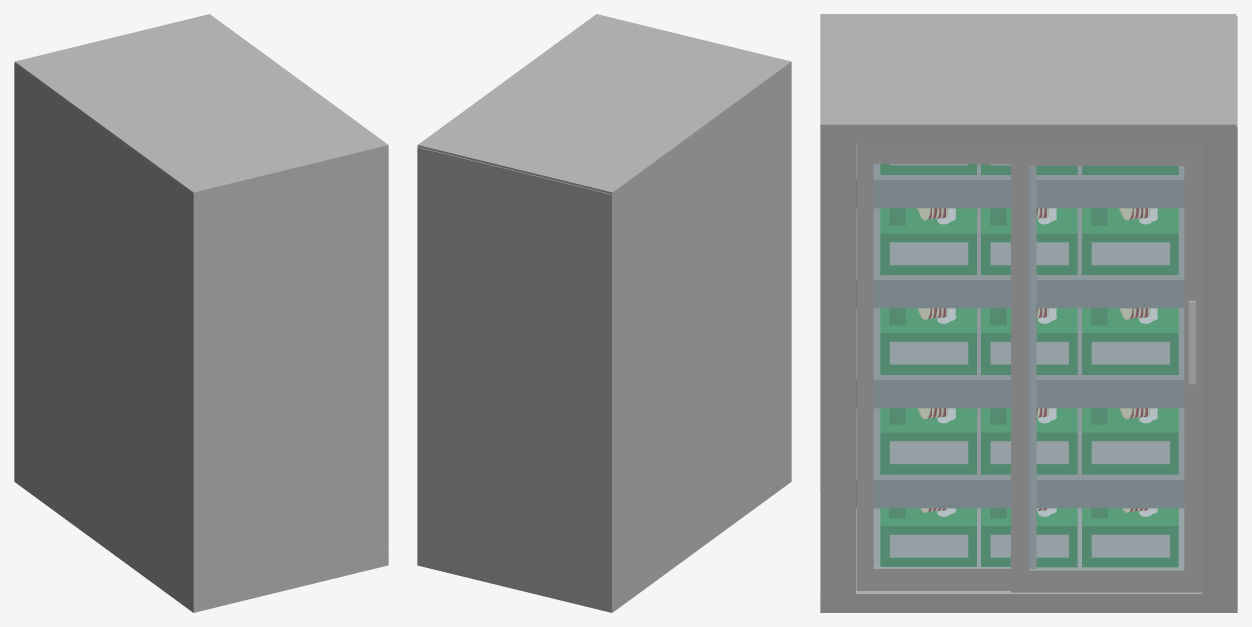
File: lasagna_fridge.gltf
The picture shows the model from 3 angles, left to right: view 1: azimuth 30°, elevation 25°; view 2: azimuth 150°, elevation 25°; view 3: azimuth 270°, elevation 25°; orthographic projection. The views are drawn at different scales.
Visible parts, largest first — view 1: fridge.box; view 2: fridge.box; view 3: fridge.box, fridge.door, fridge.door.static, Lasagna.
Boxes of the visible parts, left/top/right/bottom form: fridge.box: left=14, top=14, right=388, bottom=612; fridge.box: left=417, top=14, right=791, bottom=612; fridge.box: left=820, top=14, right=1237, bottom=612; fridge.door: left=1011, top=143, right=1202, bottom=592; fridge.door.static: left=856, top=143, right=1036, bottom=590; Lasagna: left=880, top=164, right=1178, bottom=567.
Bounding box in the file's own units: 5.42 × 11.15 × 8.63.
